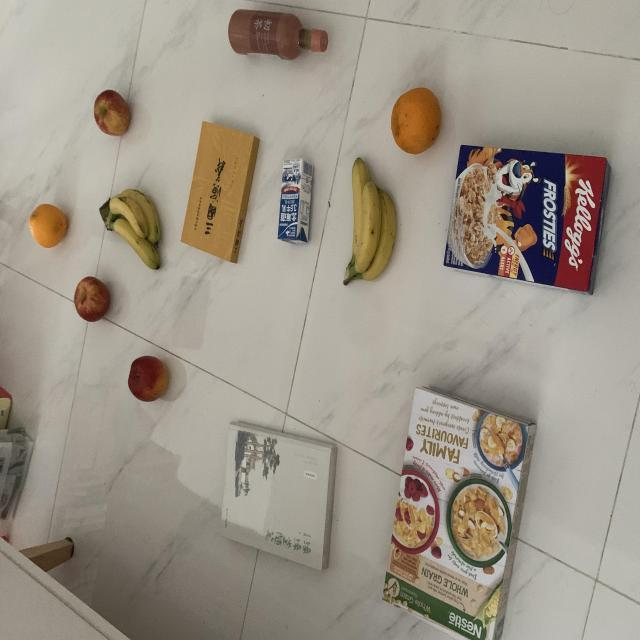apple: (89, 84, 132, 140), (126, 354, 172, 402), (74, 276, 112, 323)
banana: (340, 154, 399, 290), (99, 185, 169, 273)
orange: (388, 84, 444, 160), (27, 202, 70, 253)
